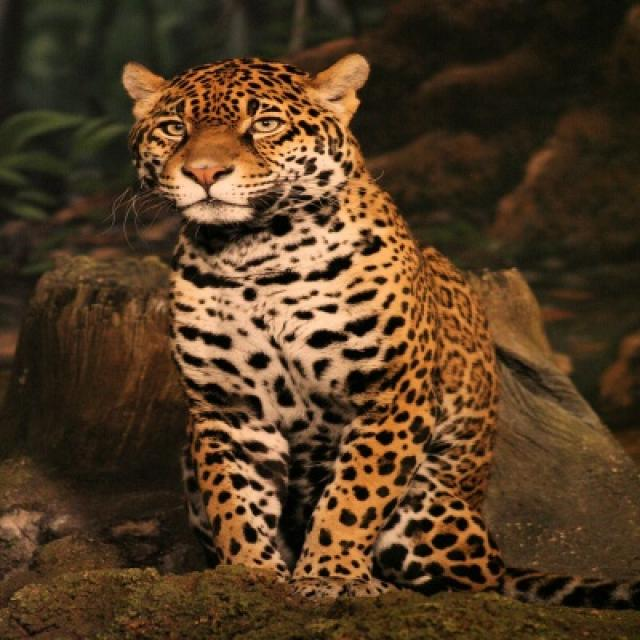Jaguar: (120, 51, 506, 602)
